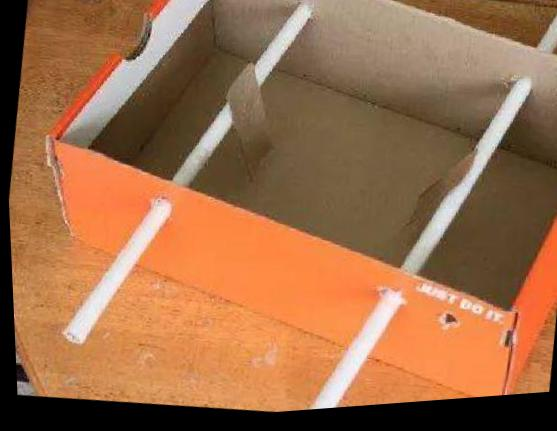cardboard: (14, 0, 557, 430)
